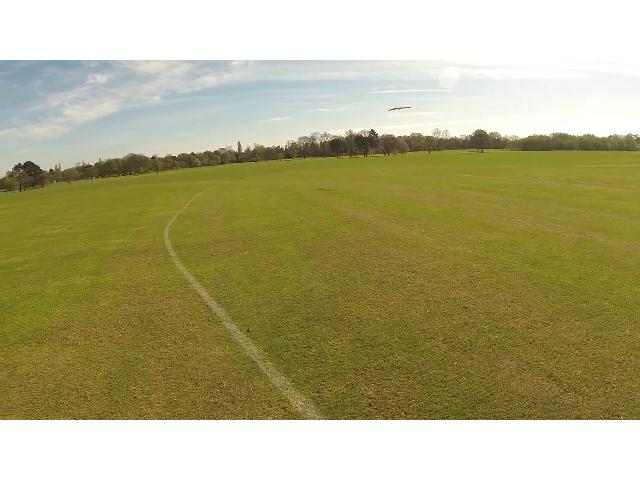Anti-Drone: (384, 98, 416, 118)
